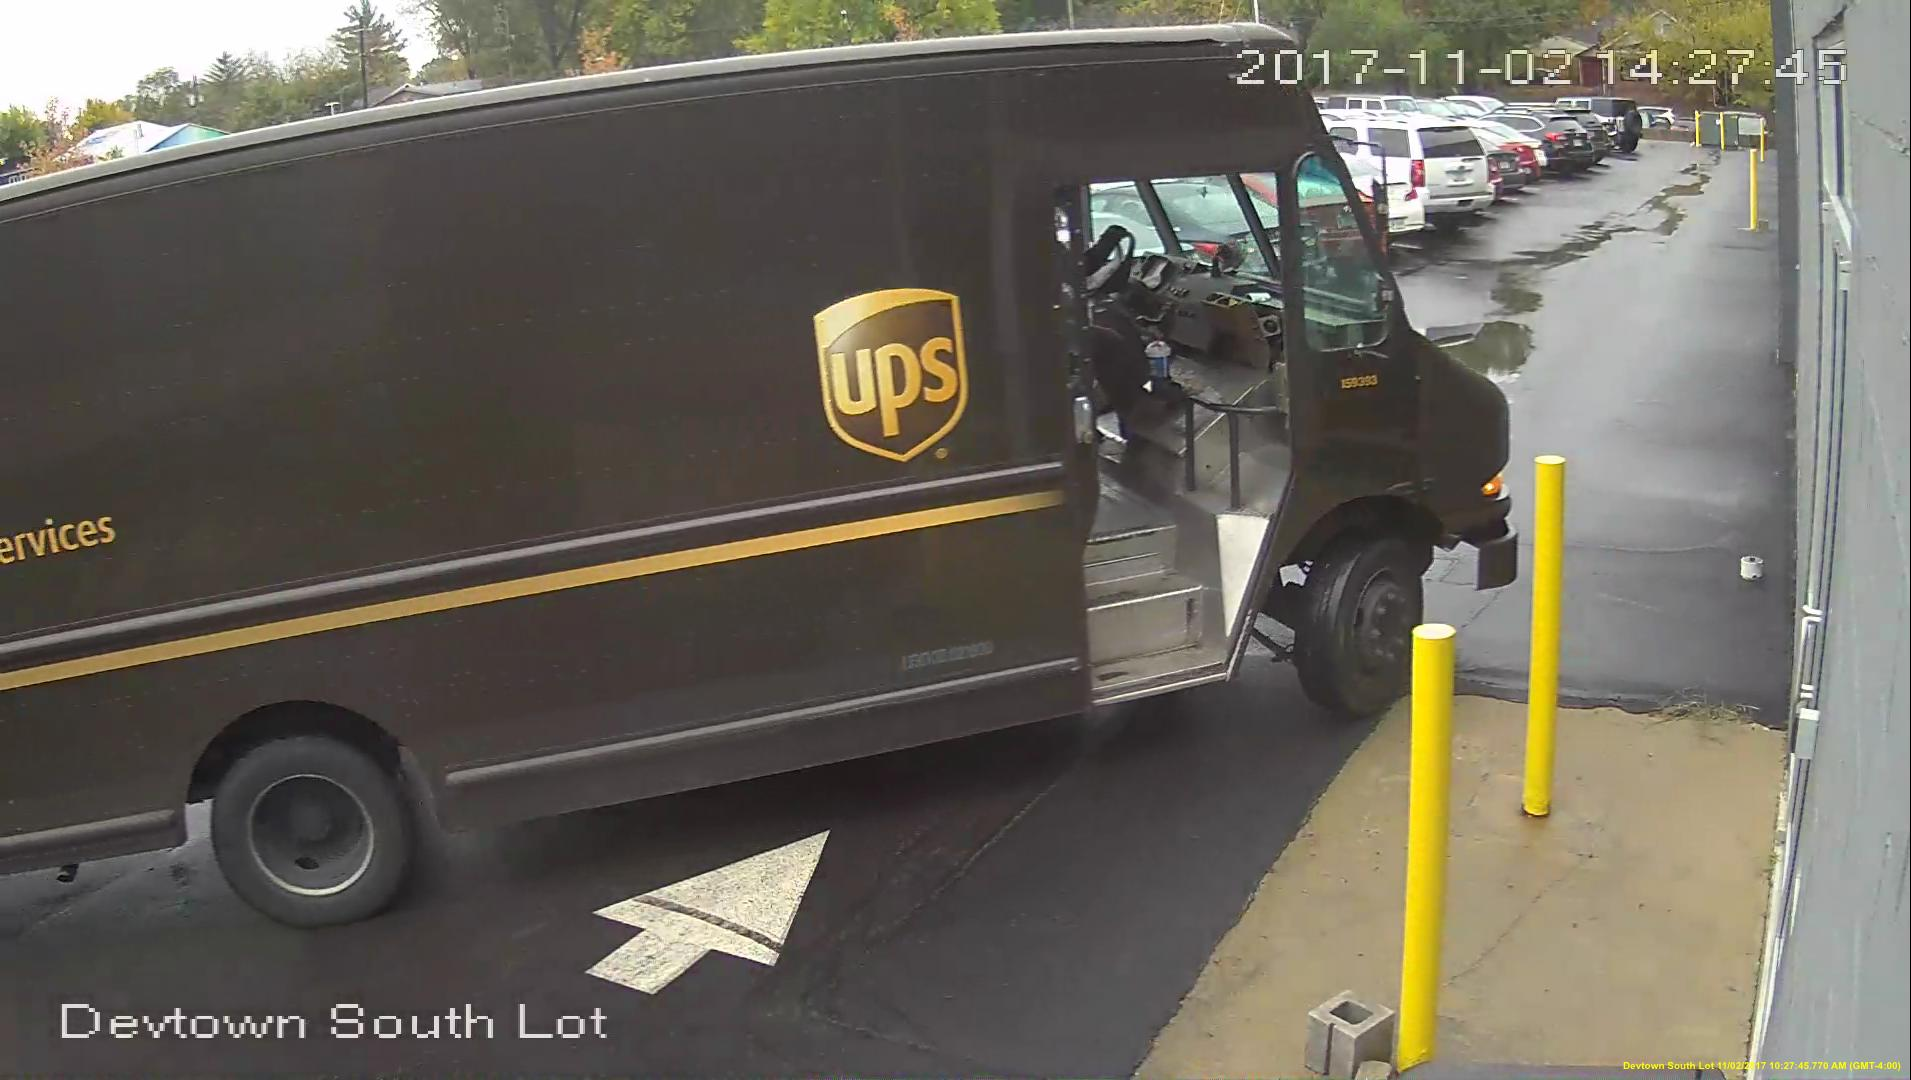ups_truck: (1, 28, 1516, 934)
